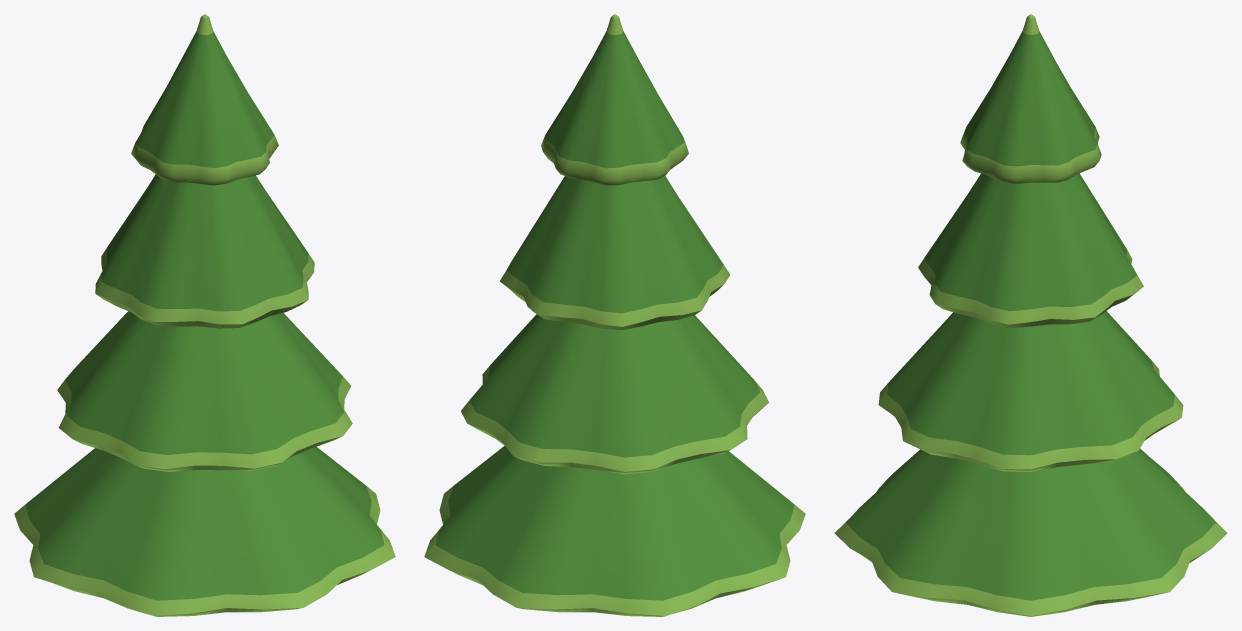
Rendered from PineTree_12.glb.
3 views of the same model, side by side, from view 1: azimuth 30°, elevation 25°; view 2: azimuth 150°, elevation 25°; view 3: azimuth 270°, elevation 25° (orthographic).
Parts seen in each view (by area): view 1: PineTree_12; view 2: PineTree_12; view 3: PineTree_12.
Part boxes in pixels (x1,y1,x2,y2): PineTree_12: [14, 14, 395, 616]; PineTree_12: [424, 14, 805, 616]; PineTree_12: [834, 14, 1227, 616].
Bounding box in the file's own units: 6.03 × 9.66 × 6.03.
